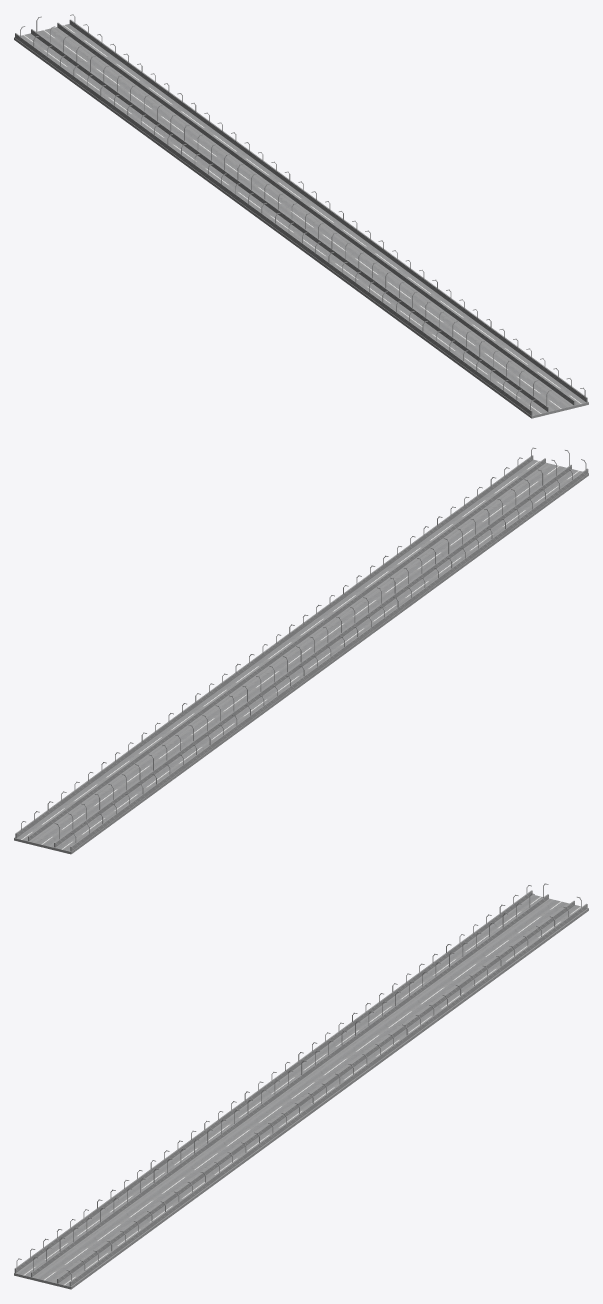
Rendered from Rail.gltf.
The picture shows the model from 3 angles, top to bottom: view 1: azimuth 30°, elevation 25°; view 2: azimuth 150°, elevation 25°; view 3: azimuth 330°, elevation 25°; orthographic projection.
Parts seen in each view (by area): view 1: Rail1; view 2: Rail1; view 3: Rail1.
Boxes of the visible parts, x1,y1,x2,y2 form: Rail1: (14, 14, 588, 418); Rail1: (14, 447, 588, 854); Rail1: (14, 883, 588, 1289).
Bounding box in the file's own units: 98.63 × 35.89 × 1543.
